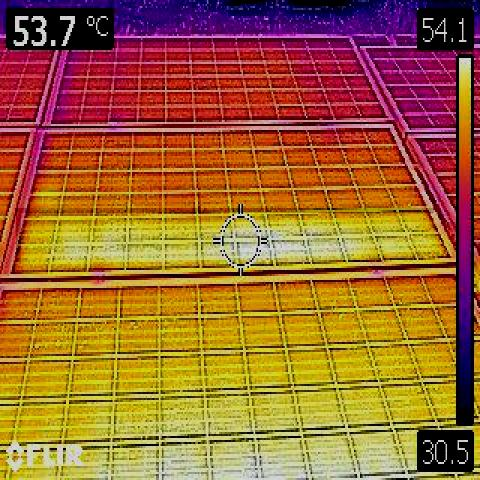fault: (16, 208, 434, 262), (21, 213, 439, 267)
